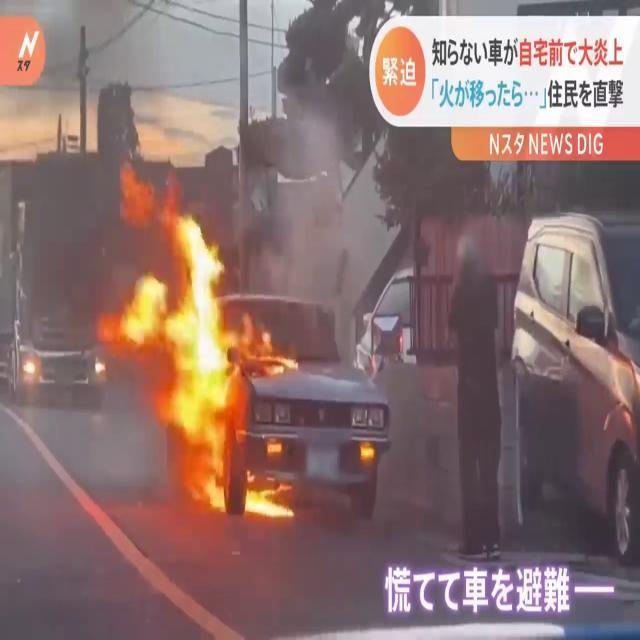Fire: (99, 187, 238, 519), (209, 305, 294, 376), (240, 474, 298, 524)
